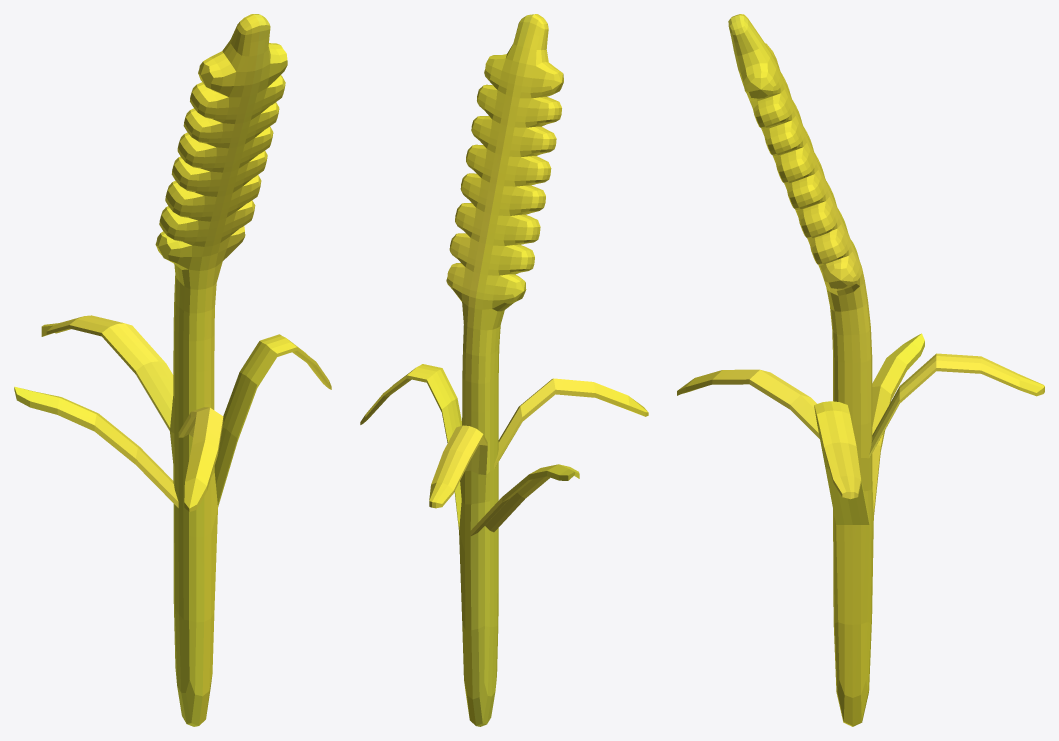
File: SM_Crop_Wheat_Stage_Grown.fbx
3 renders of one model, left to right at view 1: azimuth 30°, elevation 25°; view 2: azimuth 150°, elevation 25°; view 3: azimuth 270°, elevation 25°, orthographic. The views are drawn at different scales.
Visible parts, largest first — view 1: SM_Crop_Wheat_ST3; view 2: SM_Crop_Wheat_ST3; view 3: SM_Crop_Wheat_ST3.
Boxes of the visible parts, box(x1,y1,x2,y2) form: SM_Crop_Wheat_ST3: box(14, 14, 331, 726); SM_Crop_Wheat_ST3: box(360, 14, 648, 726); SM_Crop_Wheat_ST3: box(677, 14, 1044, 726).
Bounding box in the file's own units: 65.65 × 171 × 80.15.
1 material, 1 textured.
